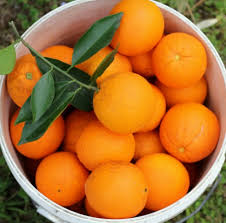orange: (85, 155, 151, 217), (158, 98, 219, 163), (93, 74, 155, 132), (107, 1, 169, 58), (32, 146, 89, 205), (153, 29, 209, 89), (73, 116, 137, 168)
